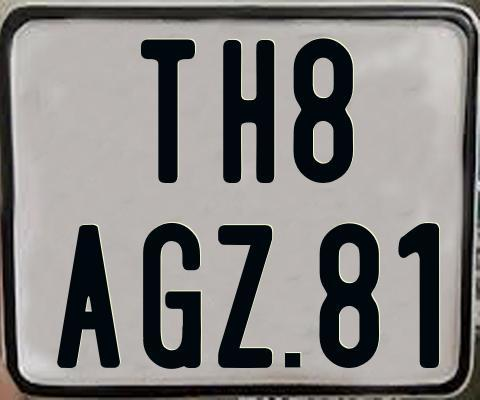1: (396, 223, 440, 368)
8: (317, 220, 381, 369), (290, 38, 350, 184)
A: (56, 225, 124, 372)
G: (142, 222, 200, 374)
H: (222, 39, 275, 184)
T: (139, 38, 193, 186)
Z: (215, 223, 270, 368)
